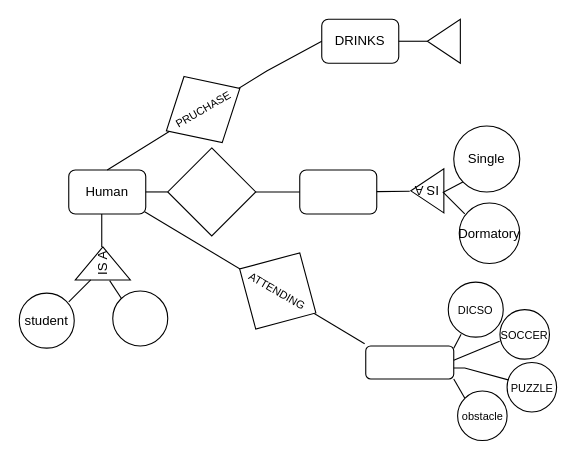
This 576x460 diagram has some shape labels left out. Here are the shapes that lost their labels. From the top down, the centre of each, then its label:
At (443,40): "LIKE".
At (211,191): "Sleep in".
At (338,191): "ROOM".
At (140,318): "Teacher".
At (409,362): "ACTIVITES".
